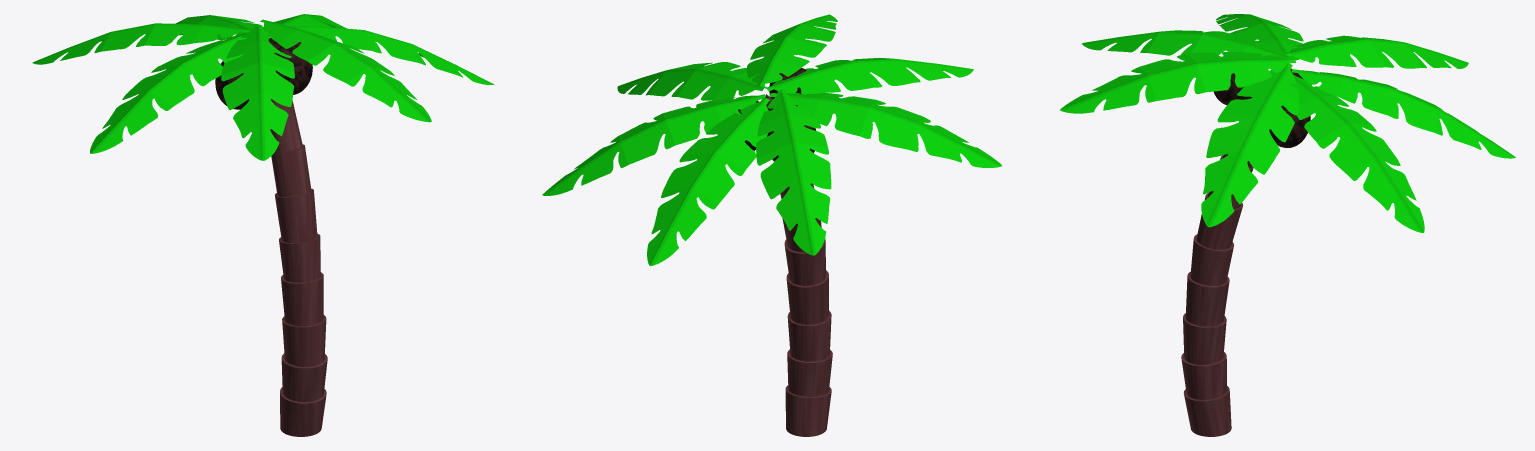
The model's file is palm_tree_1.fbx.
The picture shows the model from 3 angles, left to right: view 1: azimuth 30°, elevation 25°; view 2: azimuth 150°, elevation 25°; view 3: azimuth 270°, elevation 25°; orthographic projection.
Visible parts, largest first — view 1: palm_tree_leaf, Cylinder; view 2: palm_tree_leaf, Cylinder; view 3: palm_tree_leaf, Cylinder.
Part boxes in pixels (x1,y1,x2,y2): palm_tree_leaf: (32,14,493,160); Cylinder: (215,38,327,436); palm_tree_leaf: (542,14,1002,266); Cylinder: (736,68,832,436); palm_tree_leaf: (1060,14,1515,232); Cylinder: (1181,68,1310,436).
Bounding box in the file's own units: 522 × 521 × 457.
